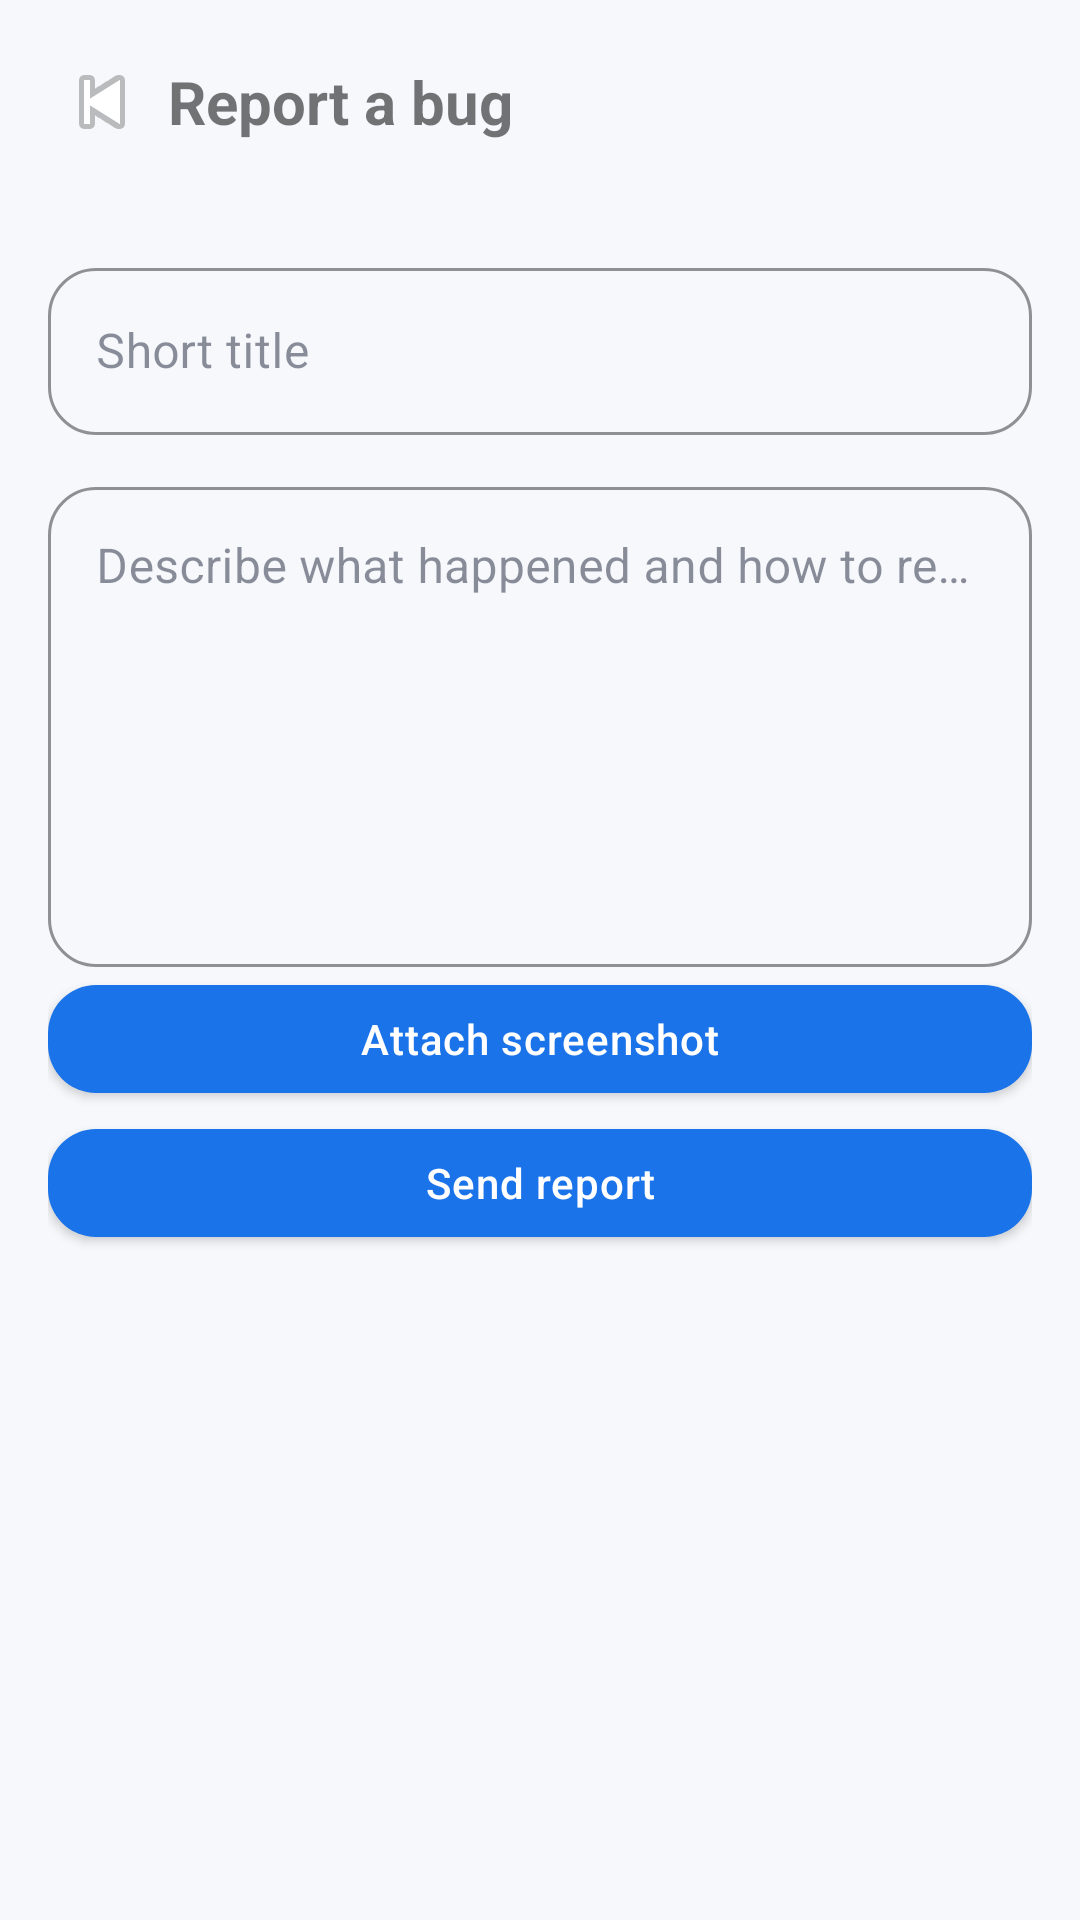

Where to tap for icons on this 1080*1920 app screen, as (x,y):
previous: (102,102)
